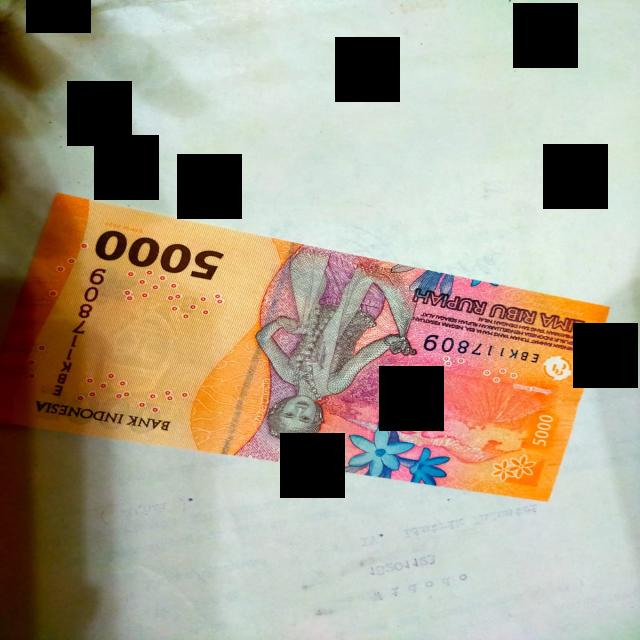lima ribu rupiah: (3, 194, 608, 499)
